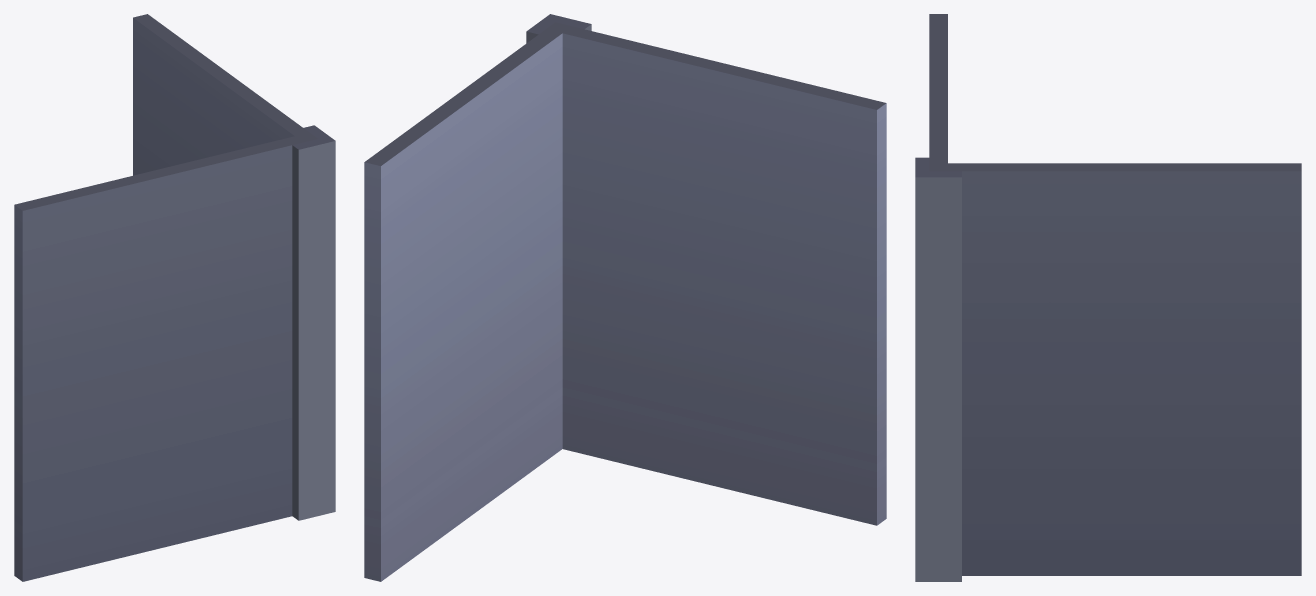
File: kenney-building-wall-corner-column.glb
3 renders of one model, left to right at view 1: azimuth 30°, elevation 25°; view 2: azimuth 150°, elevation 25°; view 3: azimuth 270°, elevation 25°, orthographic. The views are drawn at different scales.
Visible parts, largest first — view 1: wall-corner-column; view 2: wall-corner-column; view 3: wall-corner-column.
Part boxes in pixels (x1,y1,x2,y2): wall-corner-column: (14, 14, 335, 581); wall-corner-column: (364, 14, 886, 581); wall-corner-column: (915, 14, 1301, 581).
Bounding box in the file's own units: 2.08 × 2.4 × 2.08.
Materials: 1 (1 with a texture image).
